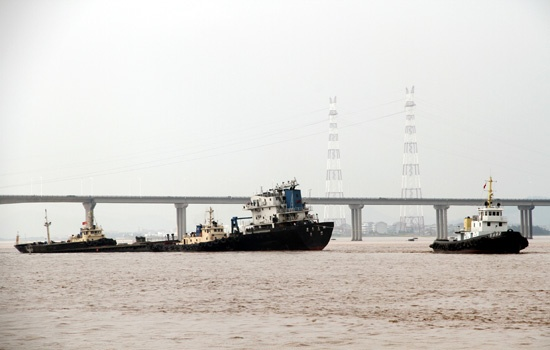otherboat: (214, 178, 339, 254), (431, 171, 542, 256), (12, 211, 120, 257), (132, 209, 236, 254)
